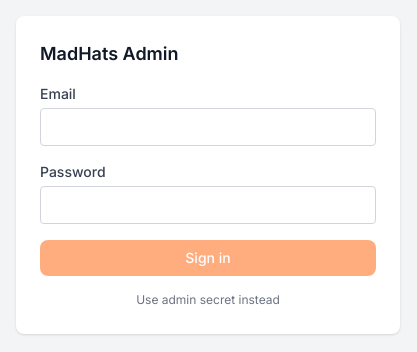
AdminLogin › disables submit until email + password are both filled
Check: the button "Sign in" is disabled, box [40,240,376,276]
In the field labelled "Email": [208, 127] box [40,108,376,146], type "a@x.com"
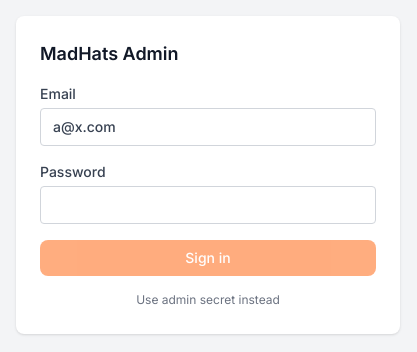
Check: the button "Sign in" is disabled, box [40,240,376,276]
In the password field labelled "Password": [208, 205] box [40,186,376,224], type "pw"
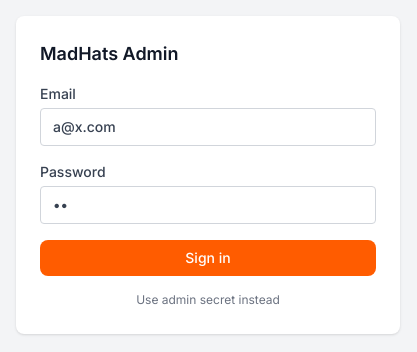
Check: the button "Sign in" is enabled, box [40,240,376,276]
